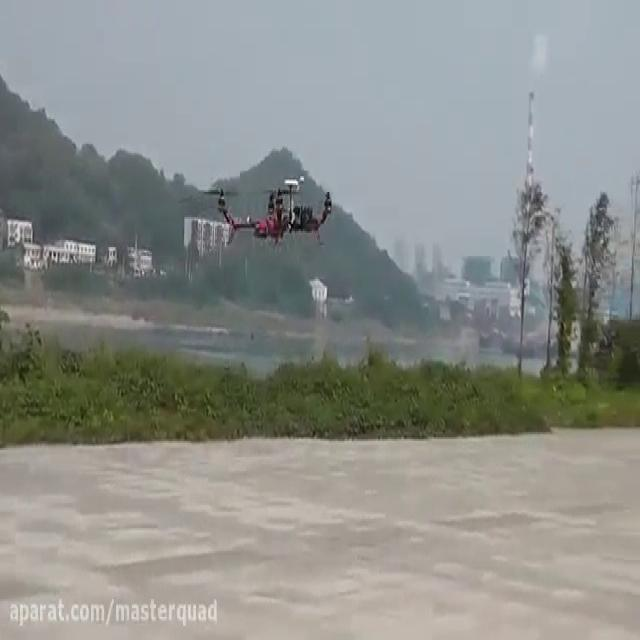drone: (200, 167, 336, 253)
